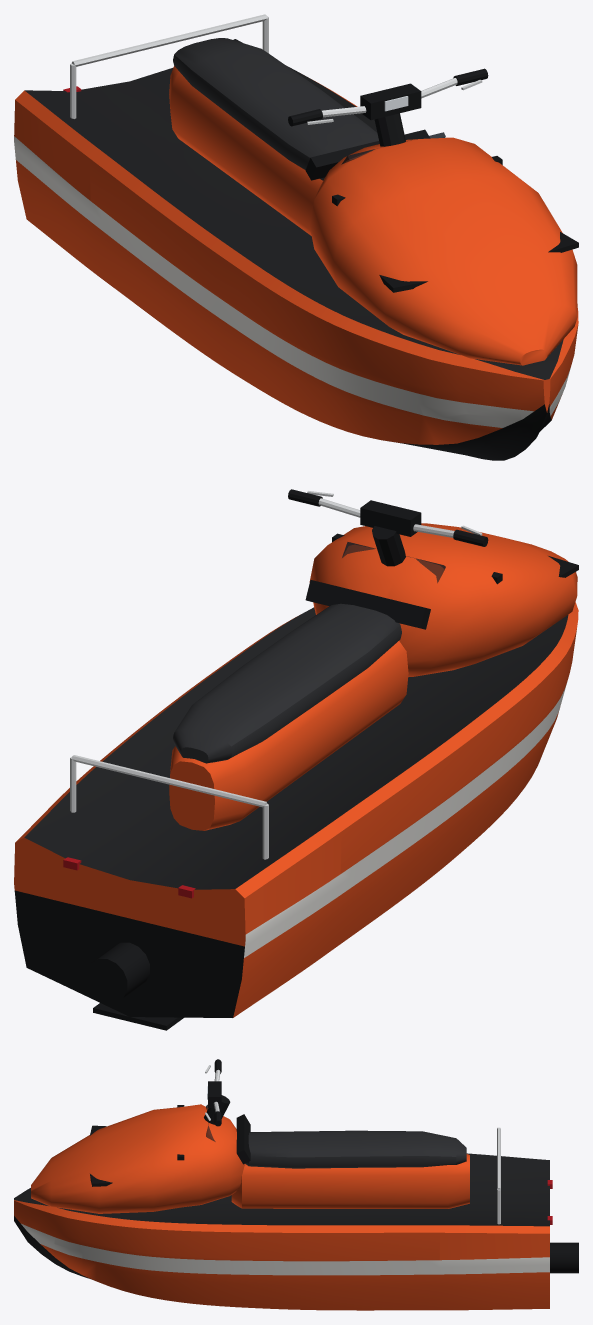
Rendered from car_jetski.glb.
The picture shows the model from 3 angles, top to bottom: view 1: azimuth 30°, elevation 25°; view 2: azimuth 150°, elevation 25°; view 3: azimuth 270°, elevation 25°; orthographic projection. The views are drawn at different scales.
Visible parts, largest first — view 1: Body, fork; view 2: Body, fork; view 3: Body, fork.
Boxes of the visible parts, box(x1,y1,x2,y2) form: Body: box(14, 14, 578, 460); fork: box(288, 68, 488, 146); Body: box(14, 523, 578, 1030); fork: box(288, 489, 488, 566); Body: box(14, 1104, 578, 1310); fork: box(204, 1059, 230, 1126).
Bounding box in the file's own units: 1.14 × 1.35 × 3.32.
